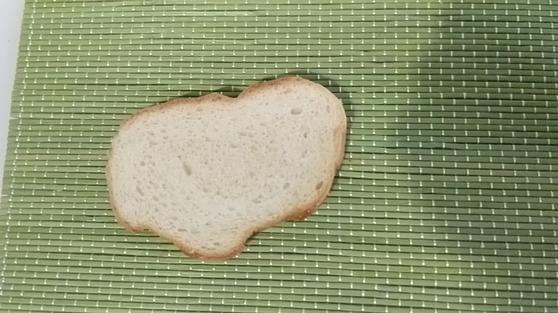white_bread: (103, 79, 353, 252)
